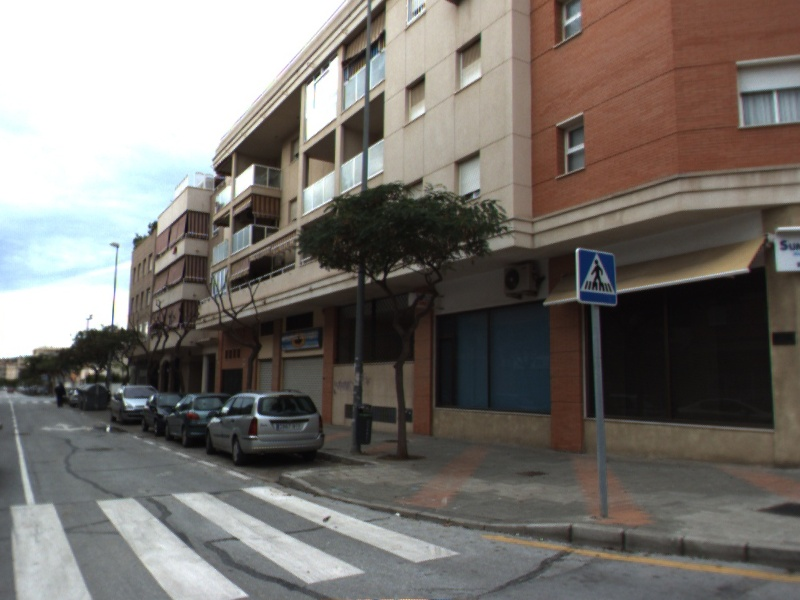STRAIGHT_LEFT_RIGHT: (39, 421, 96, 433)
